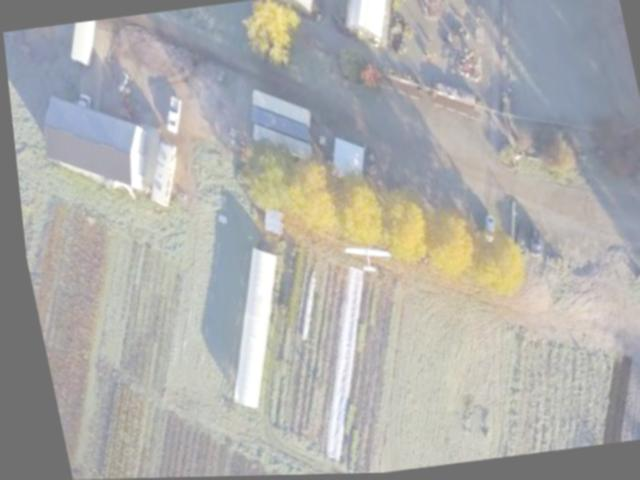uav: (337, 240, 390, 280)
